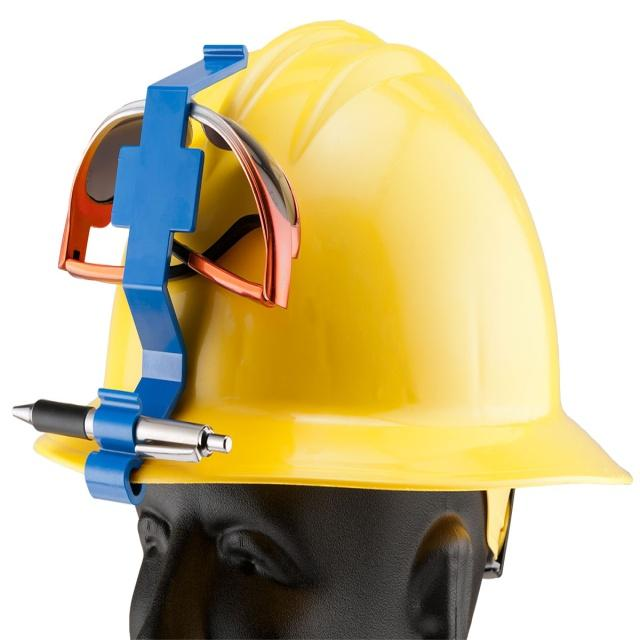helmet: (27, 31, 638, 640)
